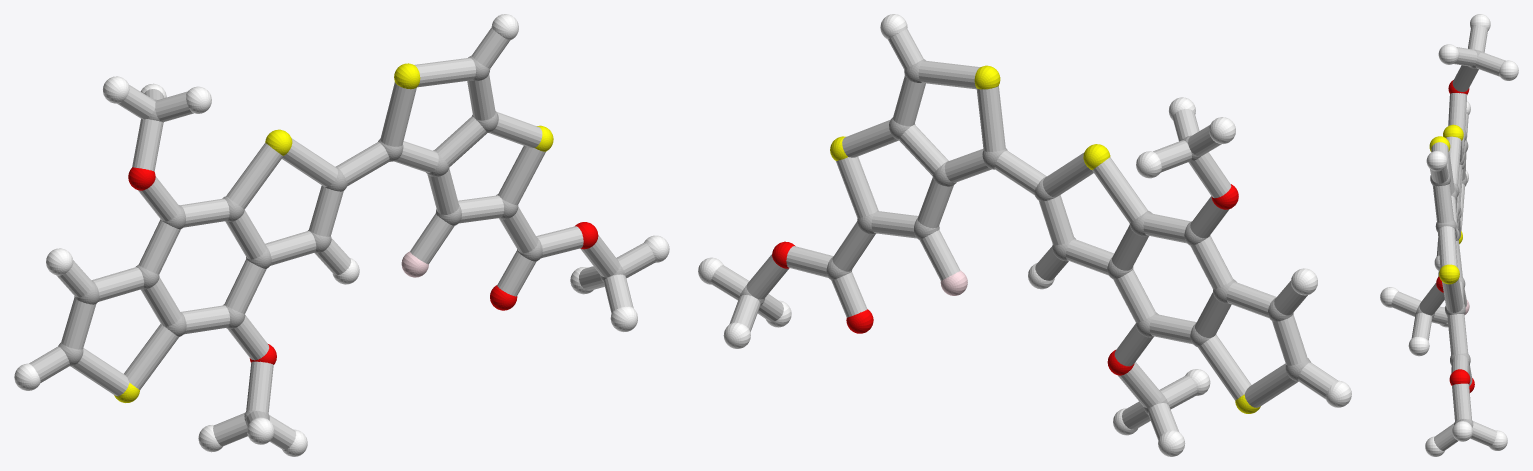
Rendered from color.glb.
The picture shows the model from 3 angles, left to right: view 1: azimuth 30°, elevation 25°; view 2: azimuth 150°, elevation 25°; view 3: azimuth 270°, elevation 25°; orthographic projection. The views are drawn at different scales.
Parts seen in each view (by area): view 1: grp15205, grp8689, grp1, grp7241, grp13395; view 2: grp15205, grp8689, grp1, grp13395, grp7241; view 3: grp15205, grp8689, grp1, grp7241, grp13395.
Part boxes in pixels (bbox=[...]): grp15205: bbox=[29, 27, 655, 449]; grp8689: bbox=[14, 14, 669, 456]; grp1: bbox=[58, 55, 625, 421]; grp7241: bbox=[114, 63, 553, 402]; grp13395: bbox=[128, 167, 598, 364]; grp15205: bbox=[711, 29, 1337, 439]; grp8689: bbox=[698, 14, 1351, 456]; grp1: bbox=[740, 59, 1310, 414]; grp13395: bbox=[772, 184, 1238, 375]; grp7241: bbox=[830, 65, 1260, 413]; grp15205: bbox=[1391, 25, 1505, 450]; grp8689: bbox=[1380, 14, 1518, 456]; grp1: bbox=[1415, 49, 1482, 426]; grp7241: bbox=[1429, 124, 1463, 284]; grp13395: bbox=[1436, 80, 1474, 392].
Size of the model in its own units: 16.49 by 9.2 by 3.99.
